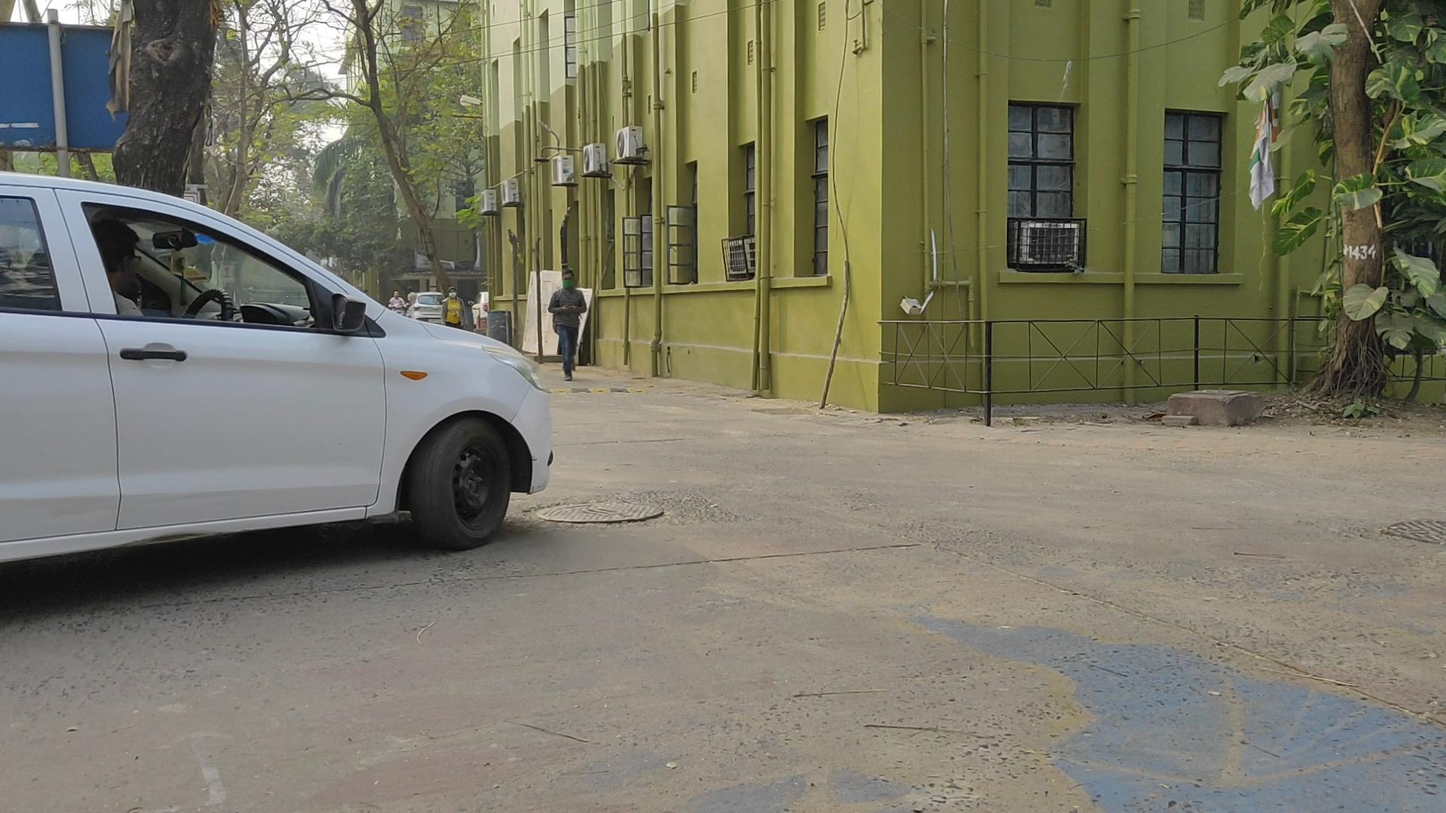car: (1, 167, 552, 592)
